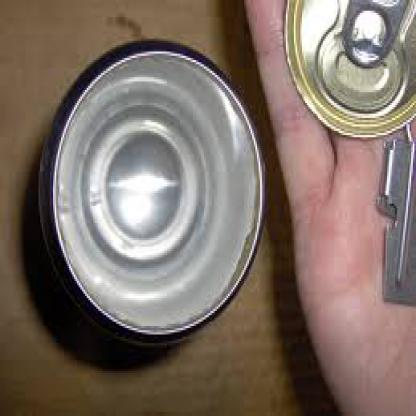Compsot: (35, 37, 264, 343), (282, 0, 415, 140), (376, 124, 414, 302)
